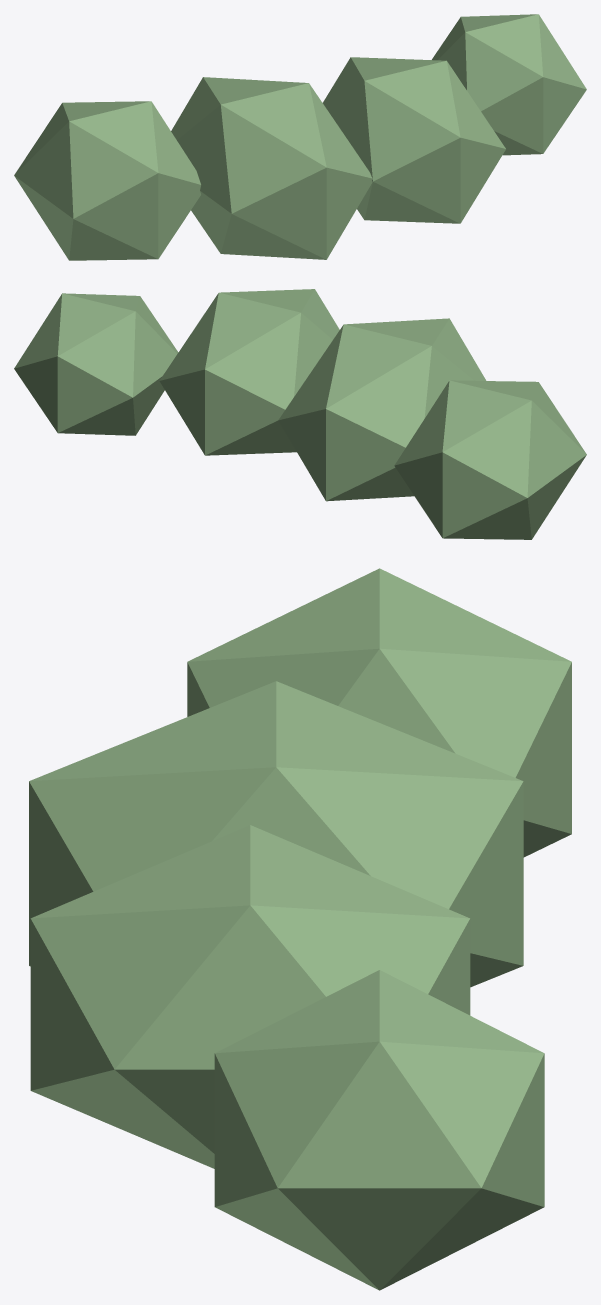
The model's file is moss.glb.
The picture shows the model from 3 angles, top to bottom: view 1: azimuth 30°, elevation 25°; view 2: azimuth 150°, elevation 25°; view 3: azimuth 270°, elevation 25°; orthographic projection. The views are drawn at different scales.
Visible parts, largest first — view 1: world; view 2: world; view 3: world.
Boxes of the visible parts, x1,y1,x2,y2 form: world: [14, 14, 586, 260]; world: [14, 289, 586, 539]; world: [29, 568, 571, 1290].
Bounding box in the file's own units: 0.9254 × 0.2552 × 0.4203.
